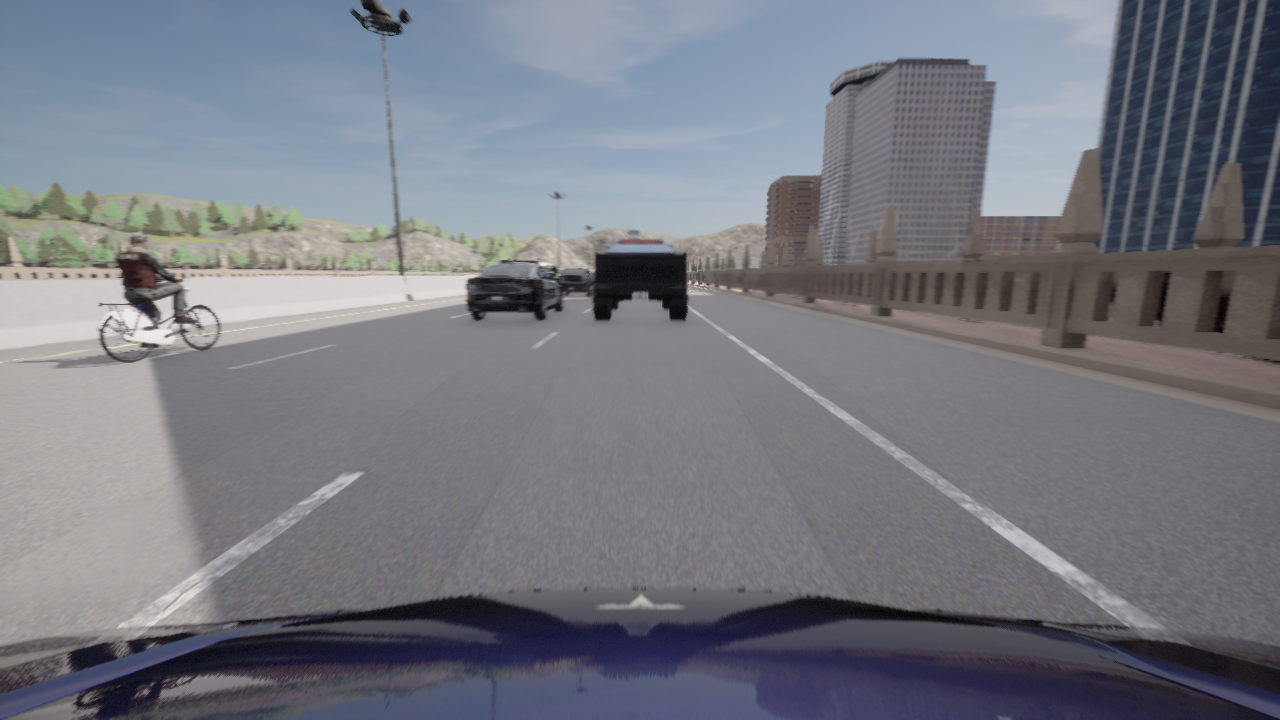cyclist: (0, 588, 1279, 719), (97, 278, 219, 361), (593, 243, 687, 319), (467, 258, 562, 318), (557, 268, 594, 296), (618, 230, 663, 242), (537, 261, 558, 277), (592, 271, 594, 278)
